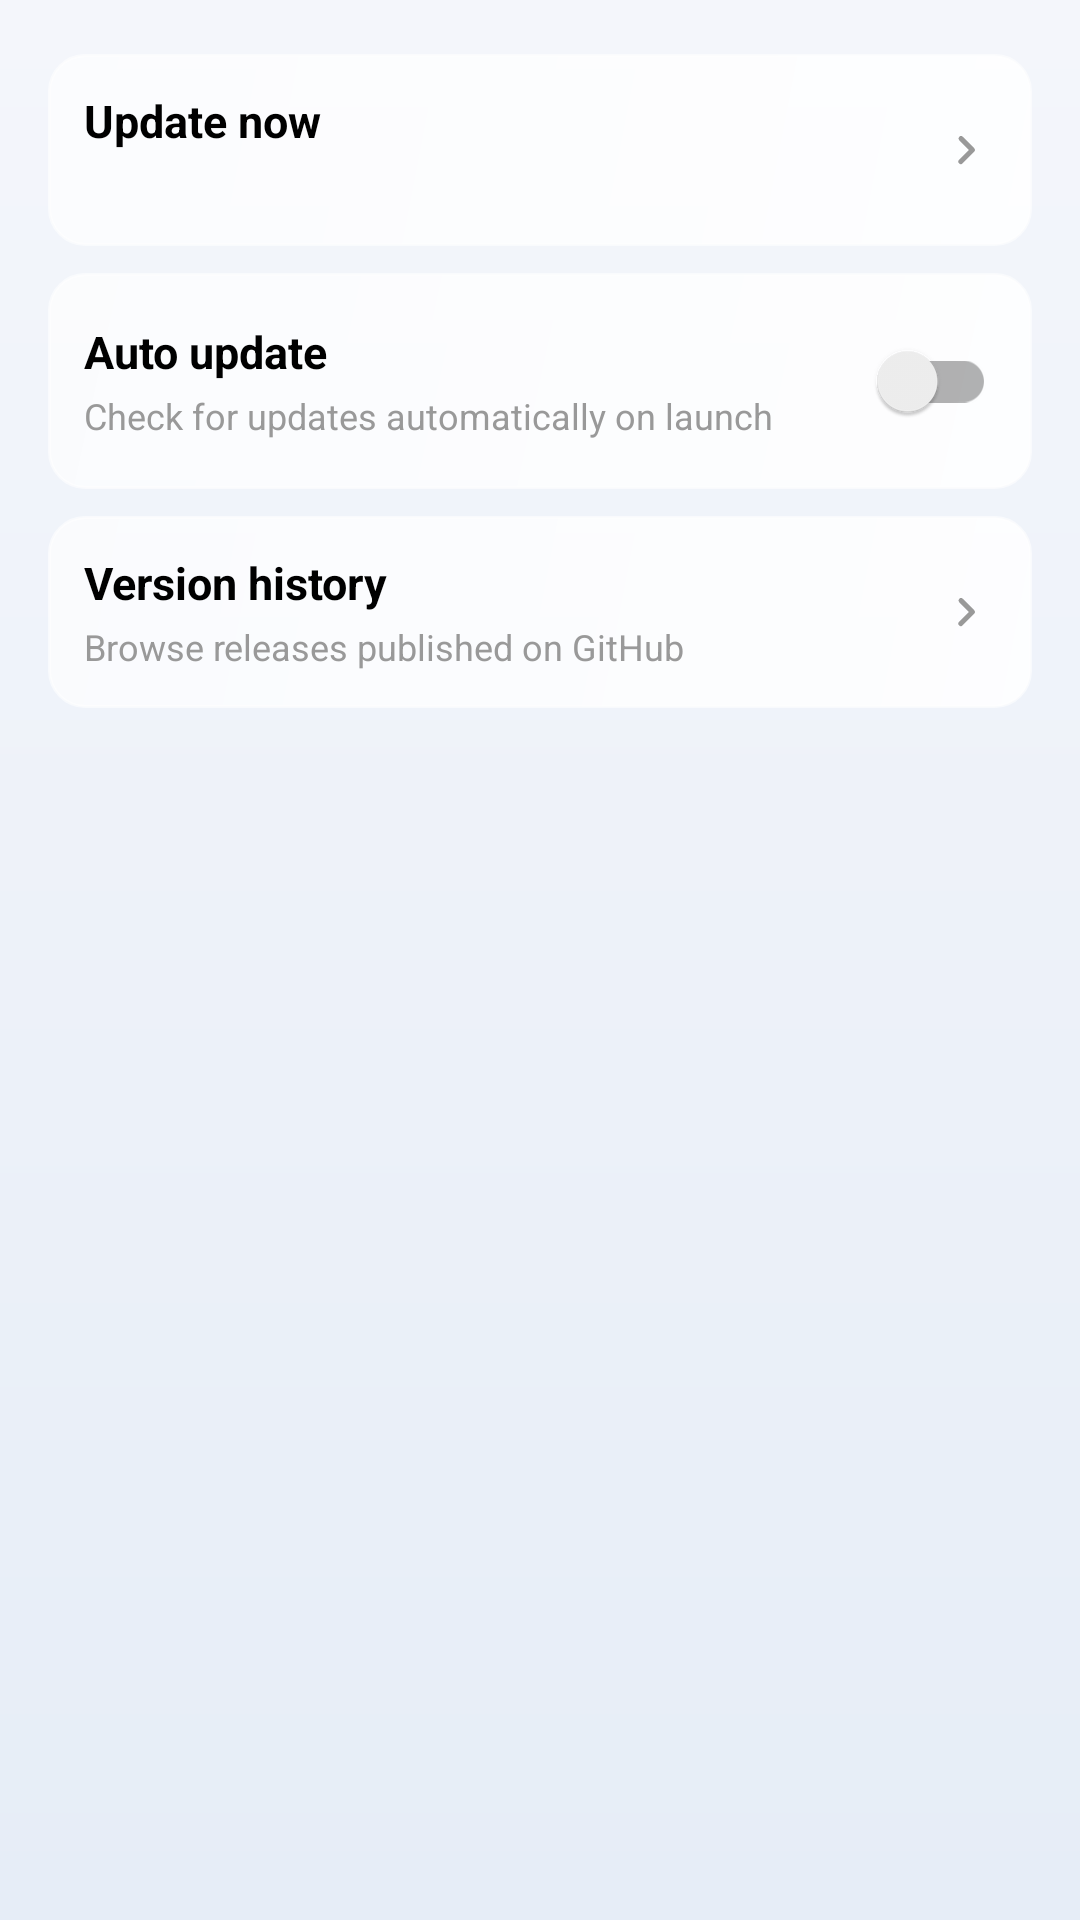

Icons on this 1080px x 1920px Android screen, each with the point to tap as (x,y):
arrow right: (966,150), (966,612)
